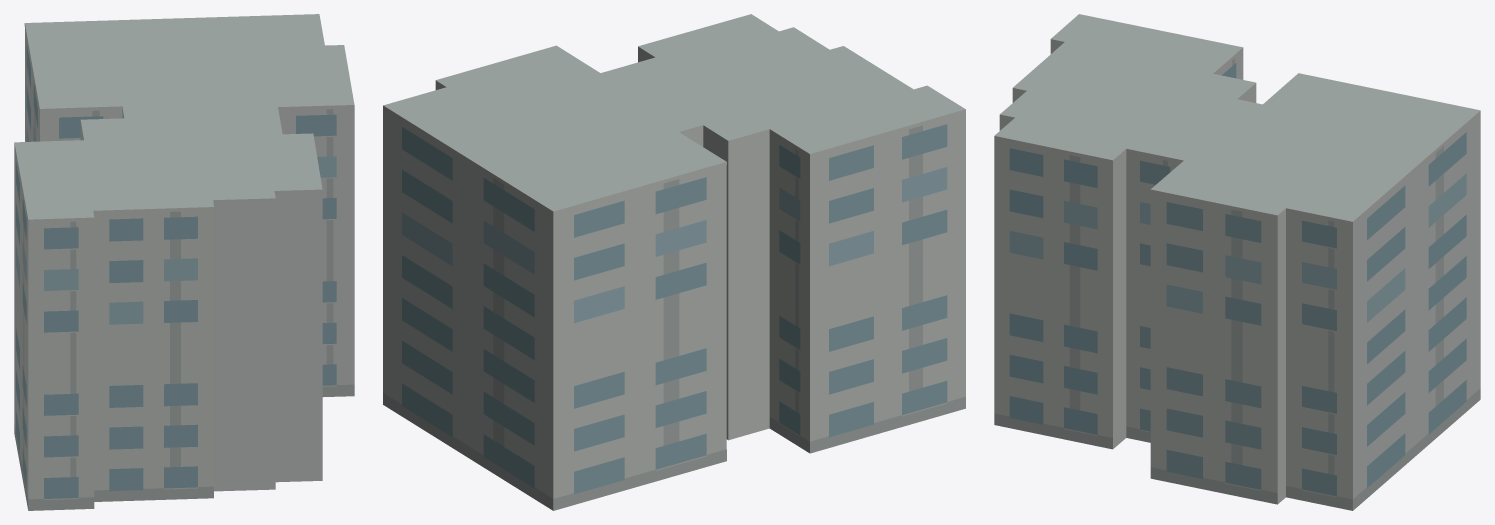
Rendered from survey-upis-32993236.glb.
The picture shows the model from 3 angles, left to right: view 1: azimuth 30°, elevation 25°; view 2: azimuth 150°, elevation 25°; view 3: azimuth 270°, elevation 25°; orthographic projection. The views are drawn at different scales.
Visible parts, largest first — view 1: survey-upis-32993236.tmp; view 2: survey-upis-32993236.tmp; view 3: survey-upis-32993236.tmp.
Part boxes in pixels (x1,y1,x2,y2): survey-upis-32993236.tmp: (14, 14, 354, 510); survey-upis-32993236.tmp: (383, 14, 965, 510); survey-upis-32993236.tmp: (994, 14, 1480, 510).
Bounding box in the file's own units: 30.72 × 19.92 × 30.39.
